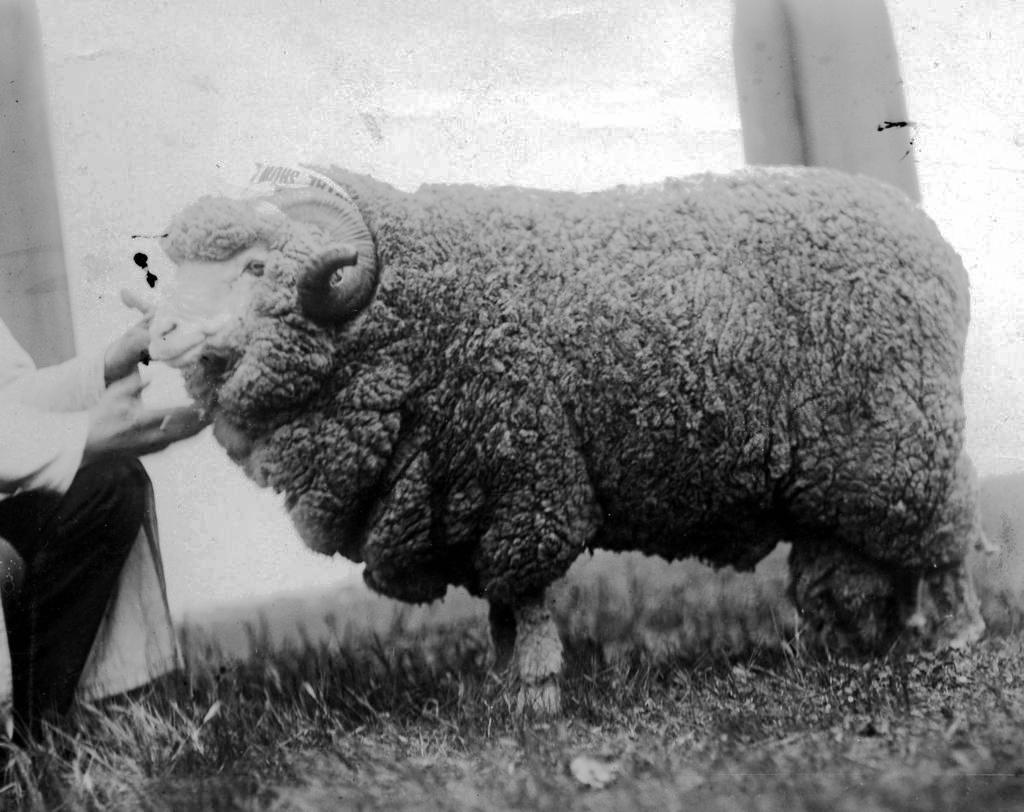Sheep: (98, 140, 1020, 720)
